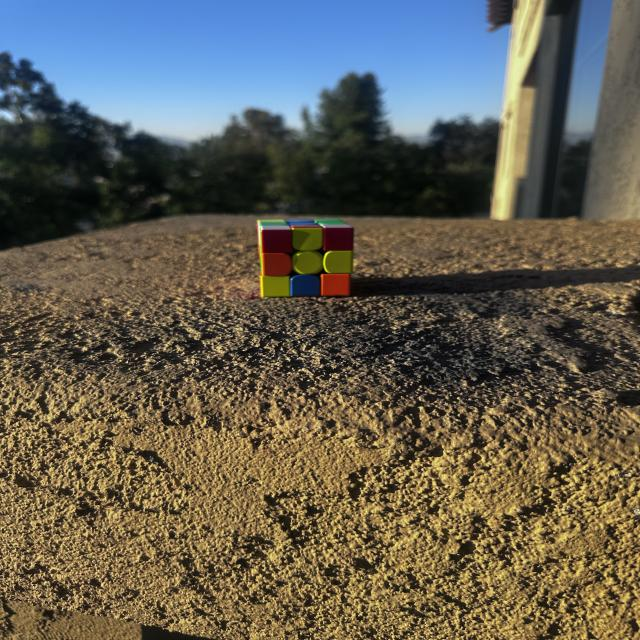sticker: (262, 230, 296, 254), (260, 254, 294, 276), (322, 250, 353, 273), (293, 251, 324, 274), (260, 277, 293, 298), (323, 228, 354, 250), (294, 228, 324, 250), (322, 275, 352, 297), (292, 276, 321, 296)
